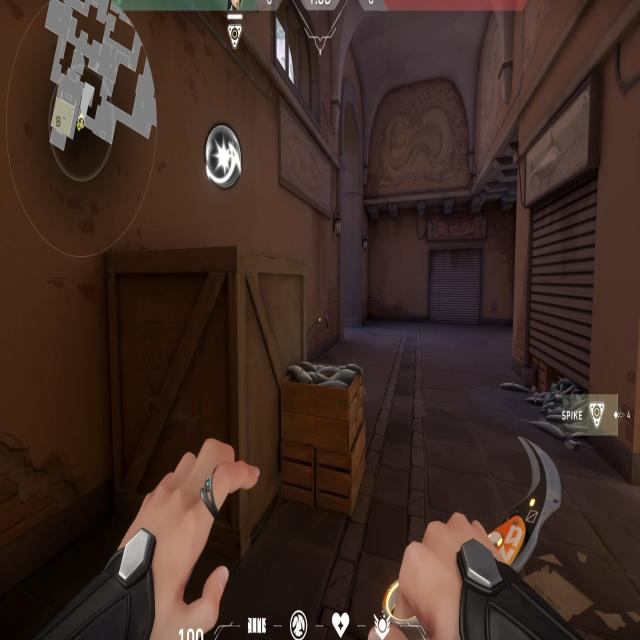B_Main_Corner: (516, 76, 608, 437)
B_Main_Wallbang: (72, 75, 380, 566)
